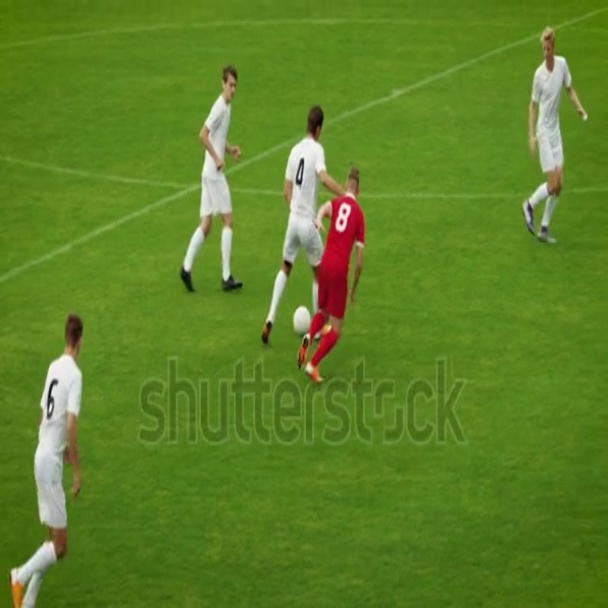ball: (295, 303, 310, 337)
